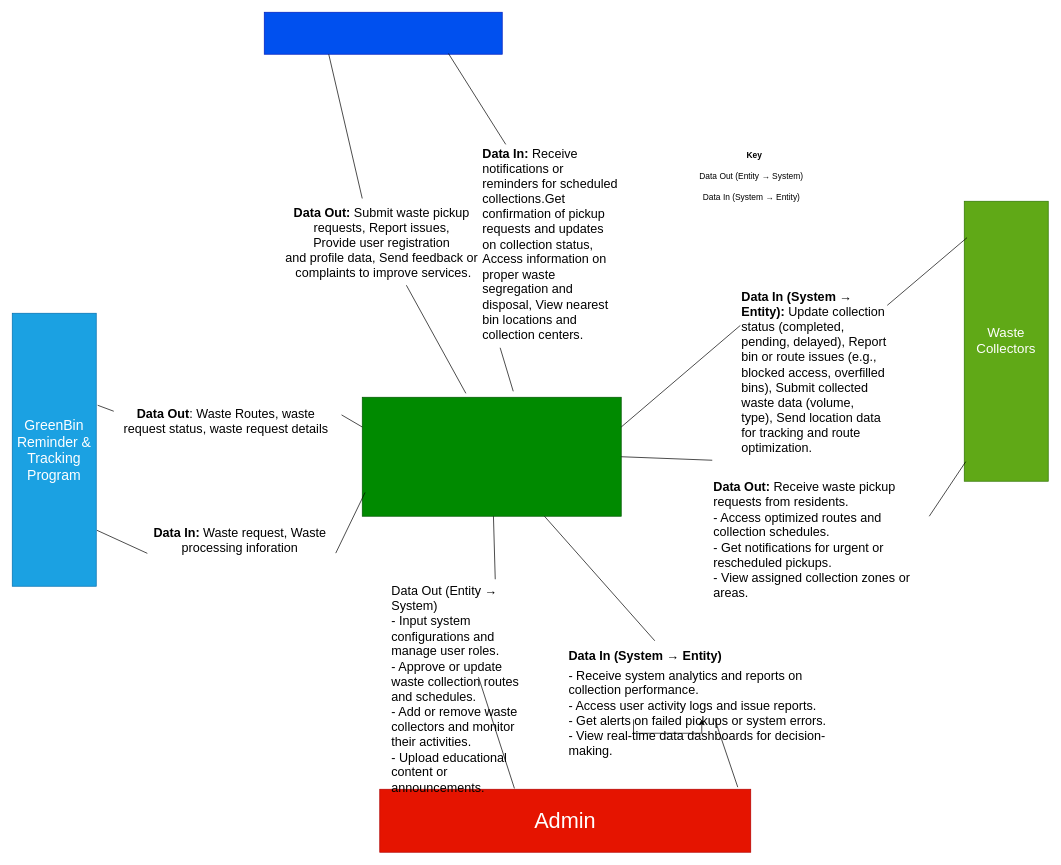
This 1061x865 diagram has some shape labels left out. Here are the shapes that lost their labels. From the top down, the centre of each, then its label:
At (x=383, y=33): "Residents".
At (x=491, y=456): "GreenBin".
